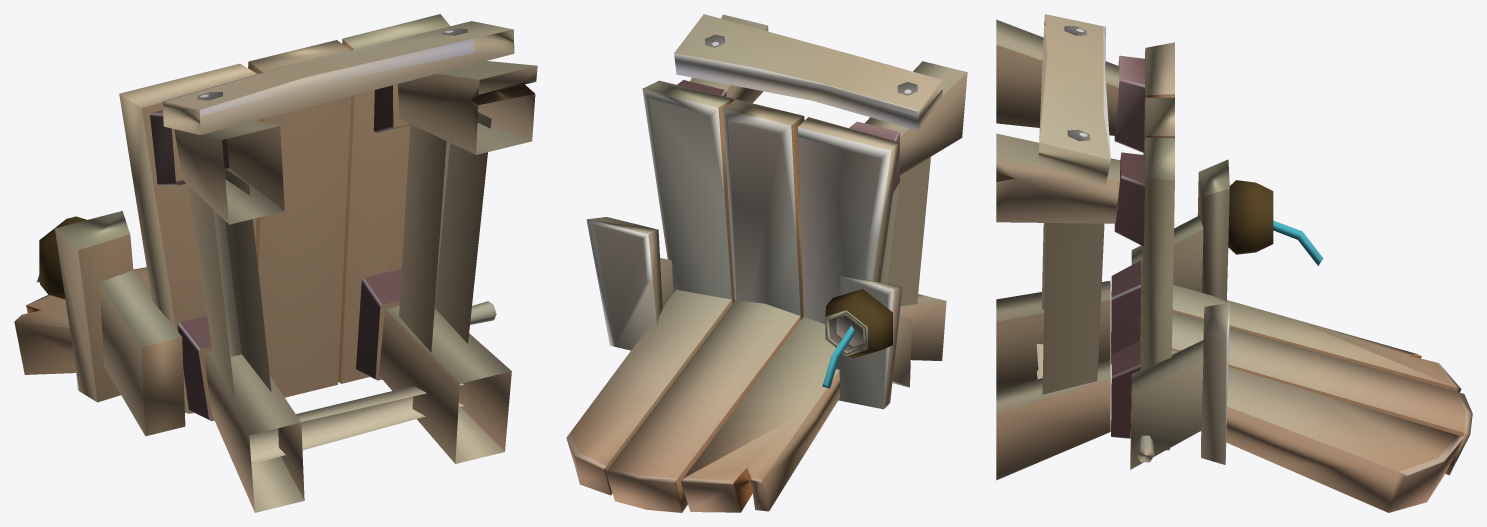
File: LifeGuardChair.fbx
The picture shows the model from 3 angles, left to right: view 1: azimuth 30°, elevation 25°; view 2: azimuth 150°, elevation 25°; view 3: azimuth 270°, elevation 25°; orthographic projection. The views are drawn at different scales.
Visible parts, largest first — view 1: LifeGuardChair; view 2: LifeGuardChair; view 3: LifeGuardChair.
Part boxes in pixels (x1=…): LifeGuardChair: x1=14, y1=14, x2=537, y2=512; LifeGuardChair: x1=566, y1=14, x2=967, y2=512; LifeGuardChair: x1=996, y1=14, x2=1472, y2=512.
Bounding box in the file's own units: 47.75 × 49.52 × 55.57.
